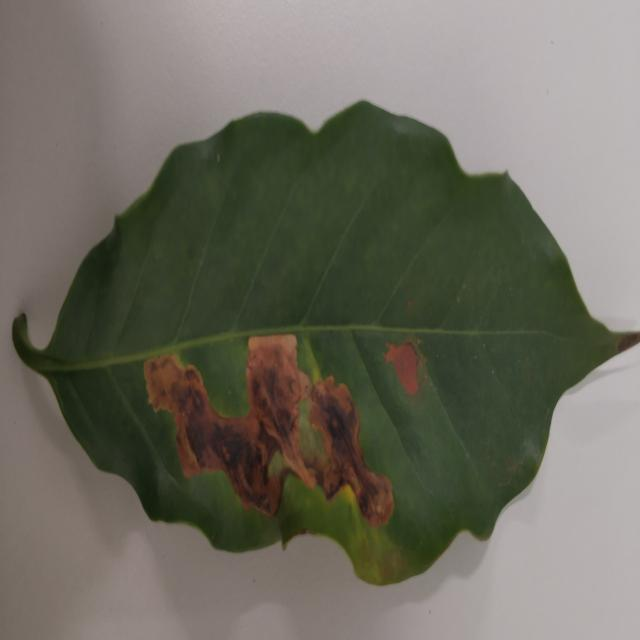Plaga-Minador: (15, 101, 632, 589)
